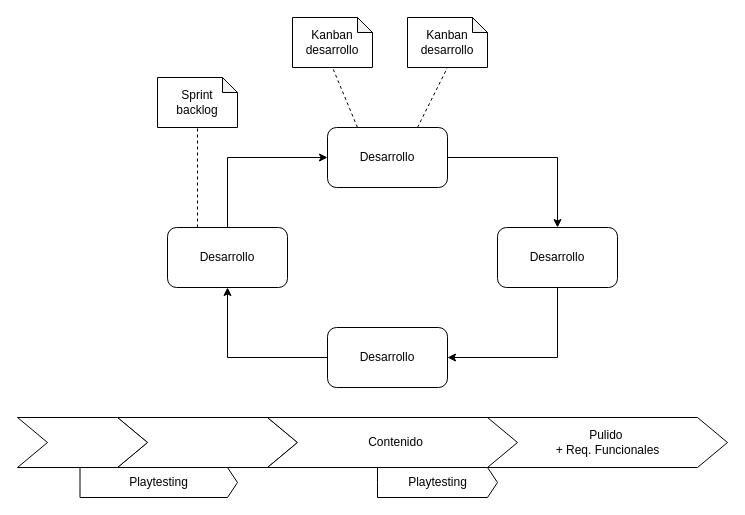
The diagram is 745 pixels wide and 515 high, and some of its shapes have lost their labels. Here are the shapes that lost their labels. From the top down, the centre of each, then its label:
At point 82,442: "Game Loop".
At point 207,442: "MVP".
